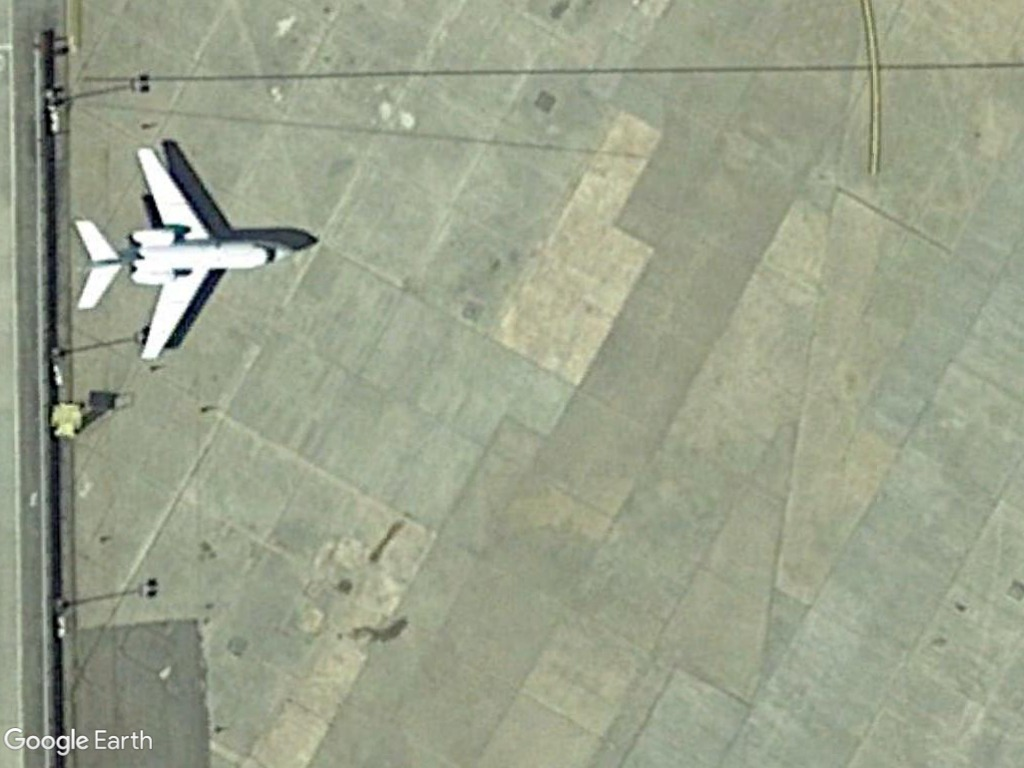chartered: (63, 140, 302, 364)
